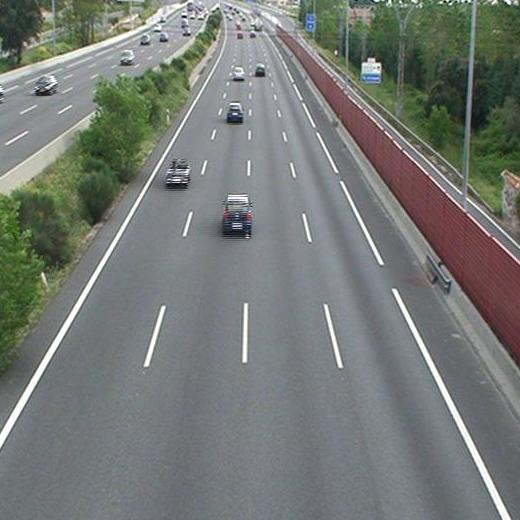car: (221, 195, 251, 230), (167, 162, 190, 182), (226, 103, 242, 120), (233, 66, 245, 79), (255, 64, 265, 77)
